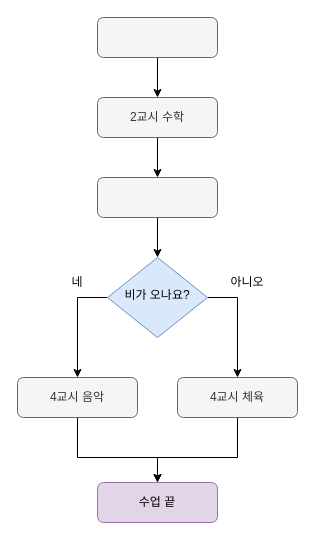
This 315x540 diagram has some shape labels left out. The box of each missing label's shape, as (x1, y1, x2, y2) in pixels:
1교시: 영어: (96, 16, 218, 58)
3교시 미술: (96, 176, 218, 218)
